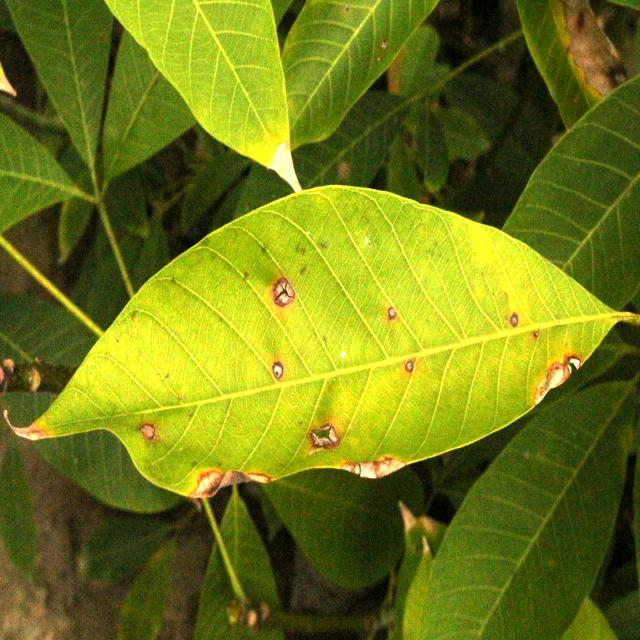Colletotrichum: (273, 277, 295, 308), (138, 423, 155, 440), (272, 361, 283, 380), (510, 313, 518, 328), (405, 360, 414, 373), (388, 307, 397, 319), (534, 331, 539, 338)
Leaf-Blight: (190, 469, 272, 499), (534, 357, 581, 405), (269, 143, 302, 194), (342, 456, 405, 479), (4, 410, 46, 440)
